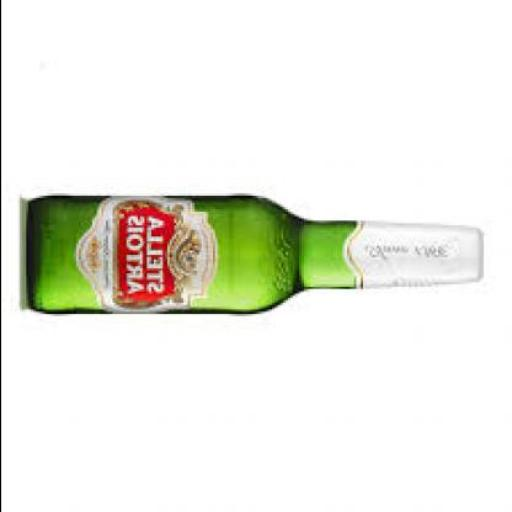glass: (25, 196, 485, 318)
